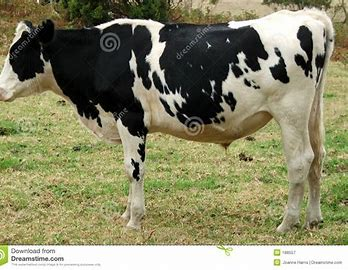waka: (1, 10, 328, 233)
